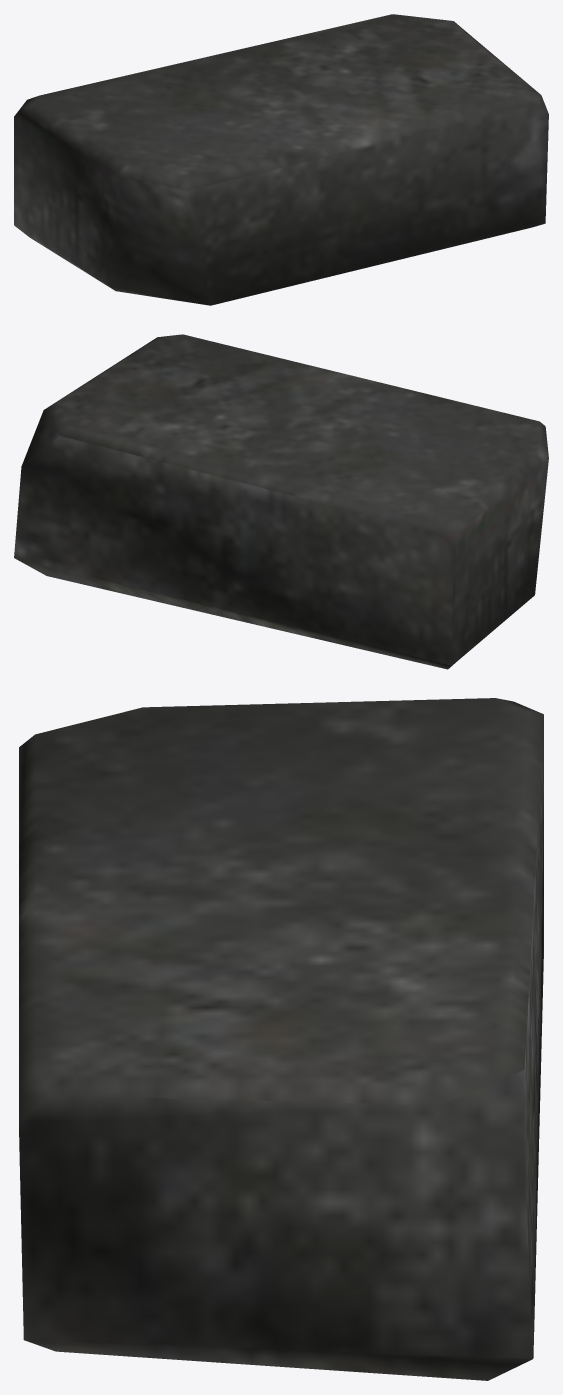
Rendered from ConcBlock_02.FBX.
The picture shows the model from 3 angles, top to bottom: view 1: azimuth 30°, elevation 25°; view 2: azimuth 150°, elevation 25°; view 3: azimuth 270°, elevation 25°; orthographic projection. The views are drawn at different scales.
Parts seen in each view (by area): view 1: ConcBlock_02; view 2: ConcBlock_02; view 3: ConcBlock_02.
Part boxes in pixels (x1,y1,x2,y2): ConcBlock_02: (14, 14, 548, 305); ConcBlock_02: (14, 334, 548, 669); ConcBlock_02: (19, 698, 543, 1380).
Bounding box in the file's own units: 46.56 × 15.98 × 25.3.
